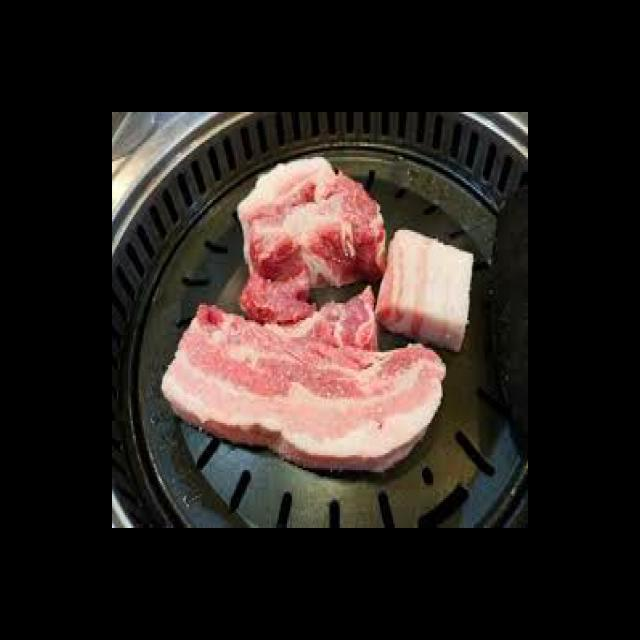pork: (176, 307, 432, 468), (237, 159, 385, 299), (390, 226, 488, 342)
